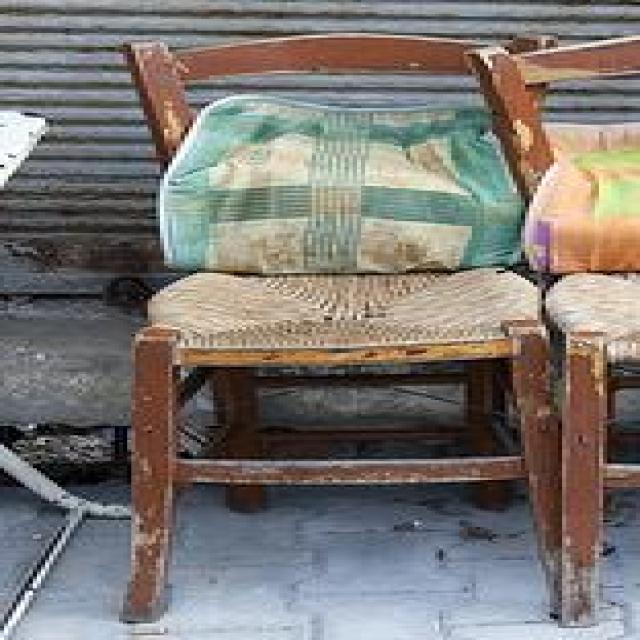chair: (115, 30, 570, 626)
